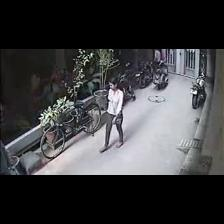person: (100, 77, 123, 152)
